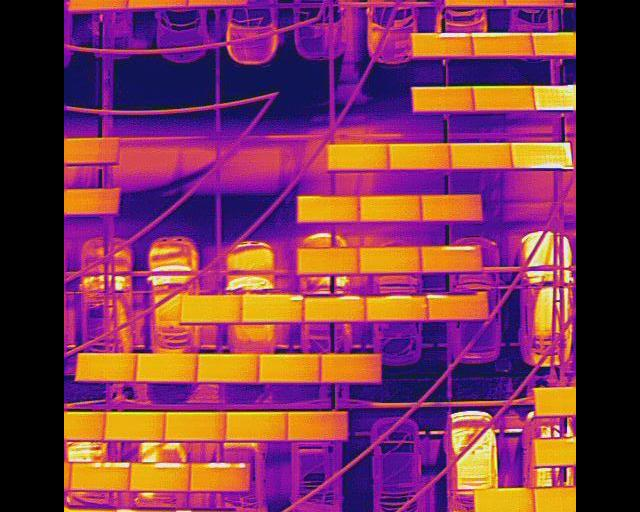Cell: (243, 293, 304, 321)
No-Anomaly: (257, 352, 320, 381), (357, 193, 422, 221), (105, 411, 164, 441), (165, 411, 226, 440), (196, 353, 259, 381), (450, 142, 513, 170), (180, 293, 244, 320), (226, 412, 287, 440), (320, 353, 381, 381), (135, 353, 198, 380), (326, 143, 389, 170), (298, 195, 360, 222), (390, 142, 450, 169), (76, 353, 138, 379), (64, 186, 121, 214), (298, 247, 359, 273), (421, 194, 482, 220), (359, 246, 422, 271), (287, 411, 345, 438), (412, 86, 473, 111), (475, 85, 538, 109), (64, 138, 120, 163), (474, 488, 530, 512)
Unclassified: (190, 461, 249, 490), (511, 140, 572, 168), (129, 462, 189, 490), (72, 461, 131, 489), (421, 244, 482, 271), (367, 294, 428, 319), (409, 32, 472, 56), (472, 32, 537, 55), (303, 294, 363, 318), (428, 295, 487, 319), (68, 0, 129, 10), (503, 0, 561, 8), (128, 0, 189, 7), (186, 0, 249, 6), (443, 0, 506, 6)
